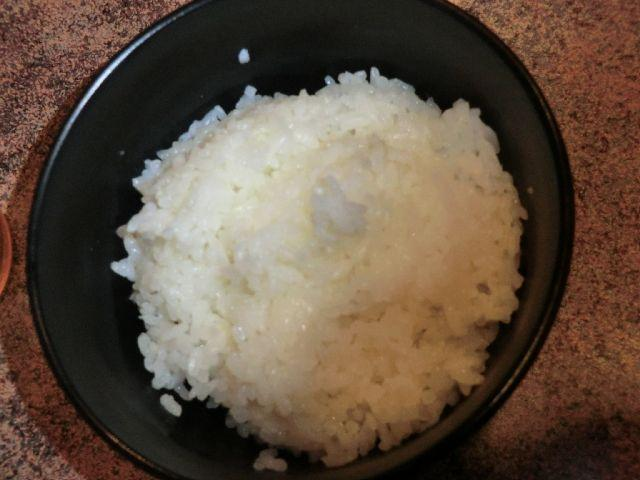rice: (112, 70, 527, 464)
